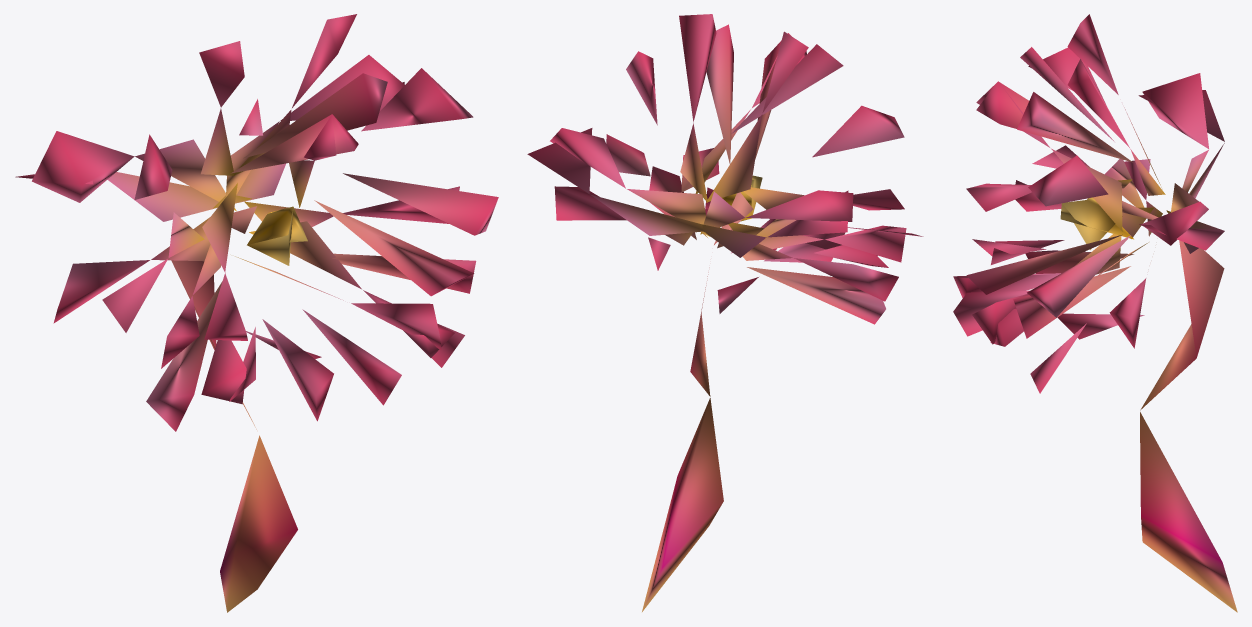
Rendered from mesh_lod_0_19863d0b-978e-57ce-b6c0-88c23ac08eba.glb.
3 renders of one model, left to right at view 1: azimuth 30°, elevation 25°; view 2: azimuth 150°, elevation 25°; view 3: azimuth 270°, elevation 25°, orthographic. The views are drawn at different scales.
Parts seen in each view (by area): view 1: LOD 0_19863d0b-978e-57ce-b6c0-88c23ac08eba; view 2: LOD 0_19863d0b-978e-57ce-b6c0-88c23ac08eba; view 3: LOD 0_19863d0b-978e-57ce-b6c0-88c23ac08eba.
Part boxes in pixels (x1,y1,x2,y2): LOD 0_19863d0b-978e-57ce-b6c0-88c23ac08eba: (15, 14, 498, 612); LOD 0_19863d0b-978e-57ce-b6c0-88c23ac08eba: (527, 14, 923, 611); LOD 0_19863d0b-978e-57ce-b6c0-88c23ac08eba: (953, 14, 1237, 612).
Size of the model in its own units: 1.43 by 2.19 by 1.01.
